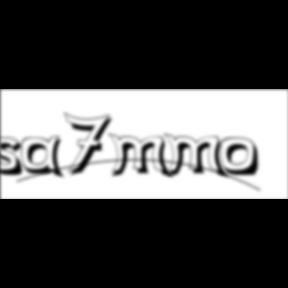7: (64, 111, 118, 179)
a: (21, 135, 69, 182)
m: (108, 132, 176, 181), (164, 132, 232, 181)
o: (220, 137, 262, 179)
s: (0, 137, 32, 179)
